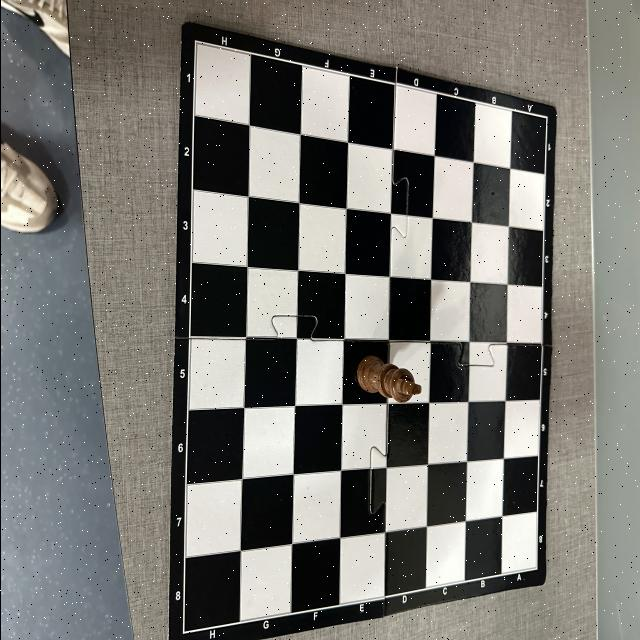Black-King: (356, 354, 421, 402)
